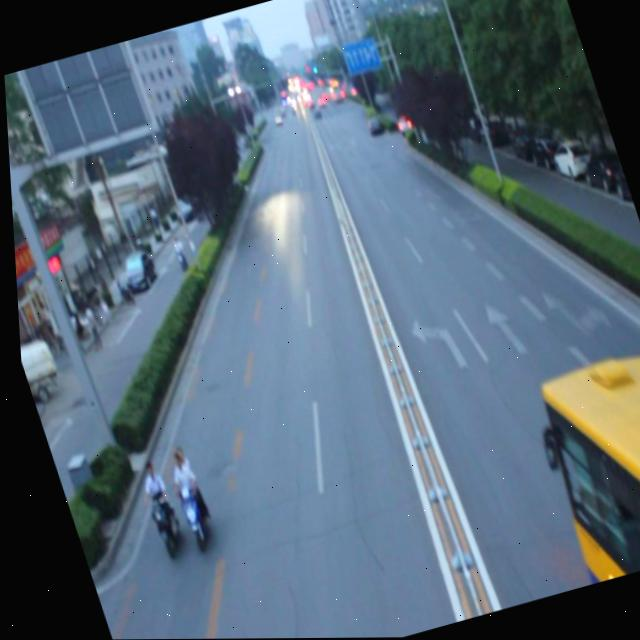van: (520, 342, 640, 584)
